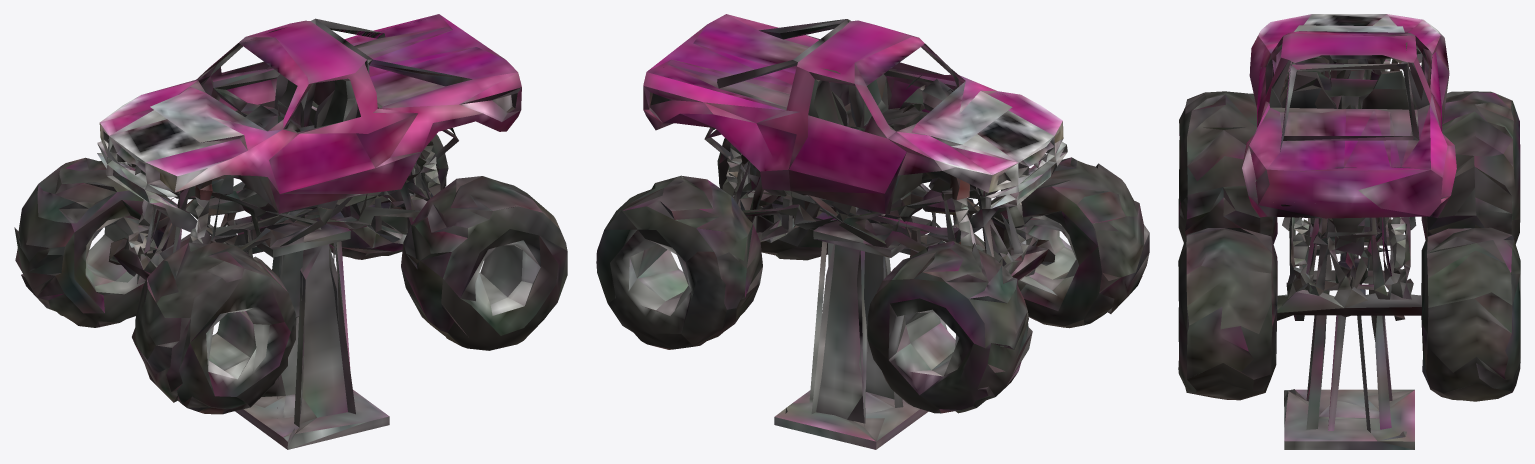
The model's file is thunder_hero_monument.glb.
3 views of the same model, side by side, from view 1: azimuth 30°, elevation 25°; view 2: azimuth 150°, elevation 25°; view 3: azimuth 270°, elevation 25° (orthographic). The views are drawn at different scales.
Size of the model in its own units: 1.9 by 1.64 by 1.33.
1 material, 1 textured.
